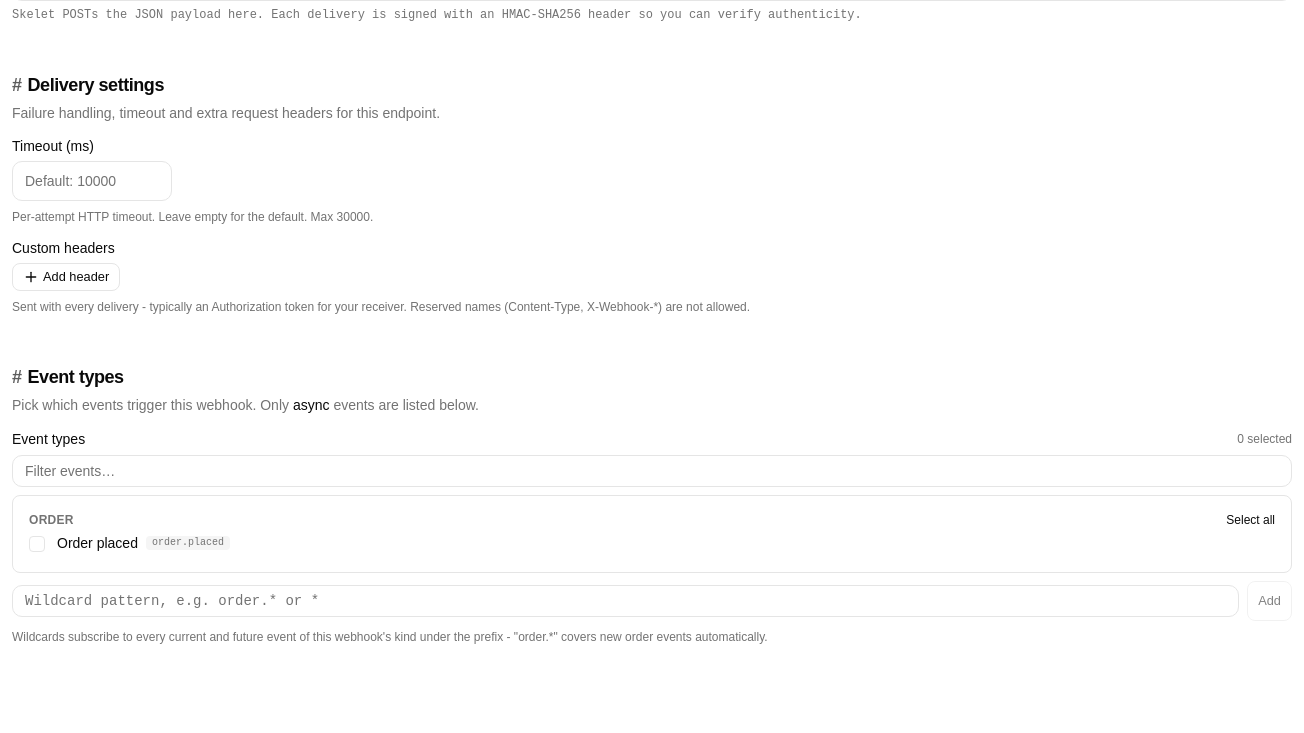
Test: WebhookCreate › drops the other kind’s events when the kind switches
(page scrolled)
Step 1. Click the checkbox named "Order placed" → (37, 544), box x1=29 y1=536 x2=45 y2=552
(page scrolled)
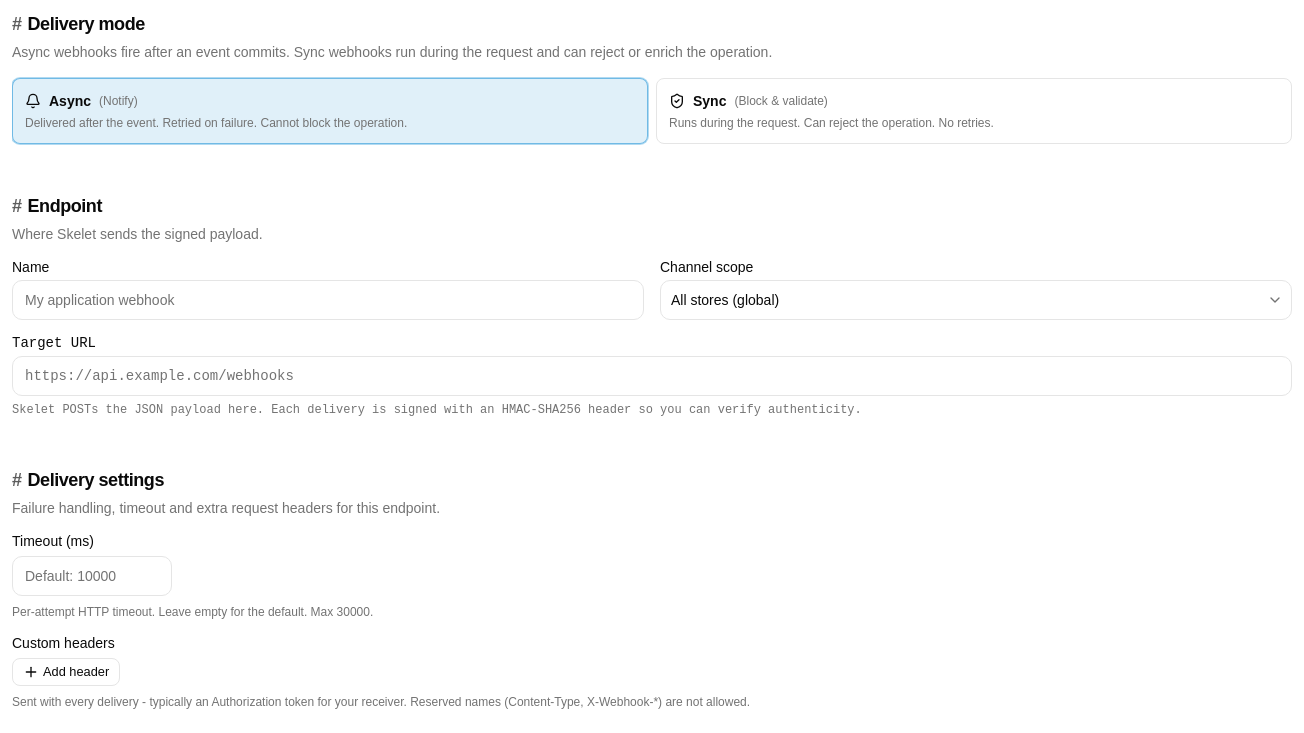
Step 2. Click the button "Sync" → (710, 101), box x1=656 y1=78 x2=1292 y2=144
(page scrolled)
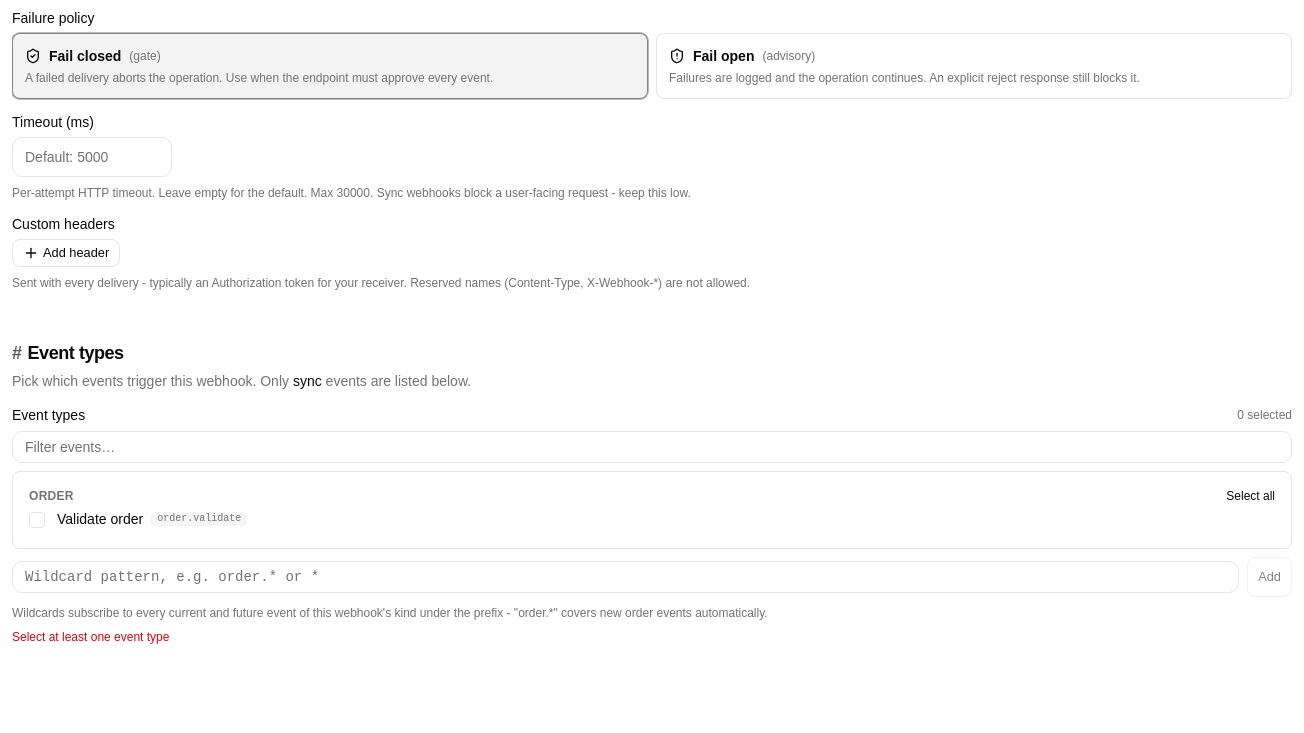
Expected: the text "0 selected" is shown, x1=1237 y1=407 x2=1292 y2=423
Expected: the checkbox named "Validate order" is shown, x1=29 y1=512 x2=45 y2=528
